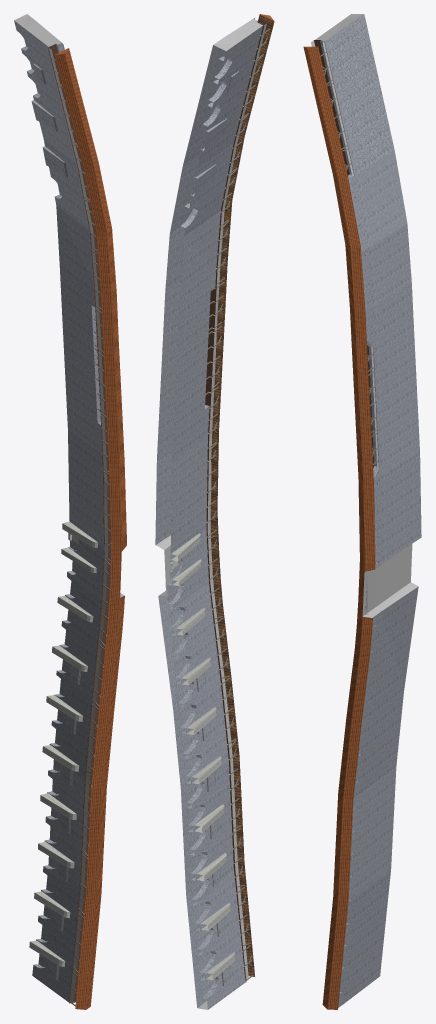
The model's file is Myyrivahe_myyr.obj.
3 views of the same model, side by side, from view 1: azimuth 30°, elevation 25°; view 2: azimuth 150°, elevation 25°; view 3: azimuth 330°, elevation 25° (orthographic).
Parts seen in each view (by area): view 1: myyr; view 2: myyr; view 3: myyr, xxx002.
Boxes of the visible parts, x1=… form: myyr: x1=14, y1=14, x2=126, y2=1009; myyr: x1=155, y1=14, x2=274, y2=1009; myyr: x1=303, y1=14, x2=421, y2=1009; xxx002: x1=375, y1=544, x2=412, y2=607.
Bounding box in the file's own units: 14.64 × 181 × 16.49.
